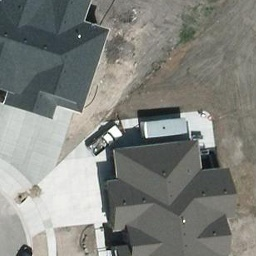car: (86, 125, 124, 157)
